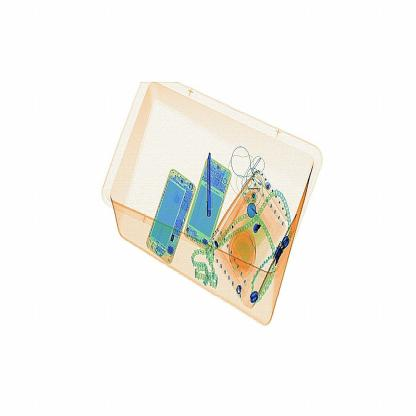pliers: (194, 139, 220, 220)
